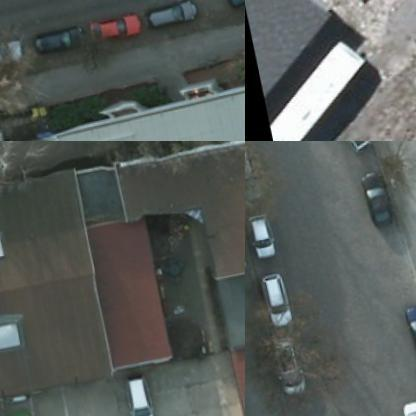car: (270, 334, 312, 398), (358, 170, 396, 230), (258, 270, 294, 326), (86, 10, 145, 43), (120, 369, 158, 415), (30, 23, 82, 56), (245, 212, 278, 259), (145, 0, 202, 26), (0, 35, 23, 71), (402, 299, 415, 360), (245, 141, 258, 197), (332, 141, 374, 154)
